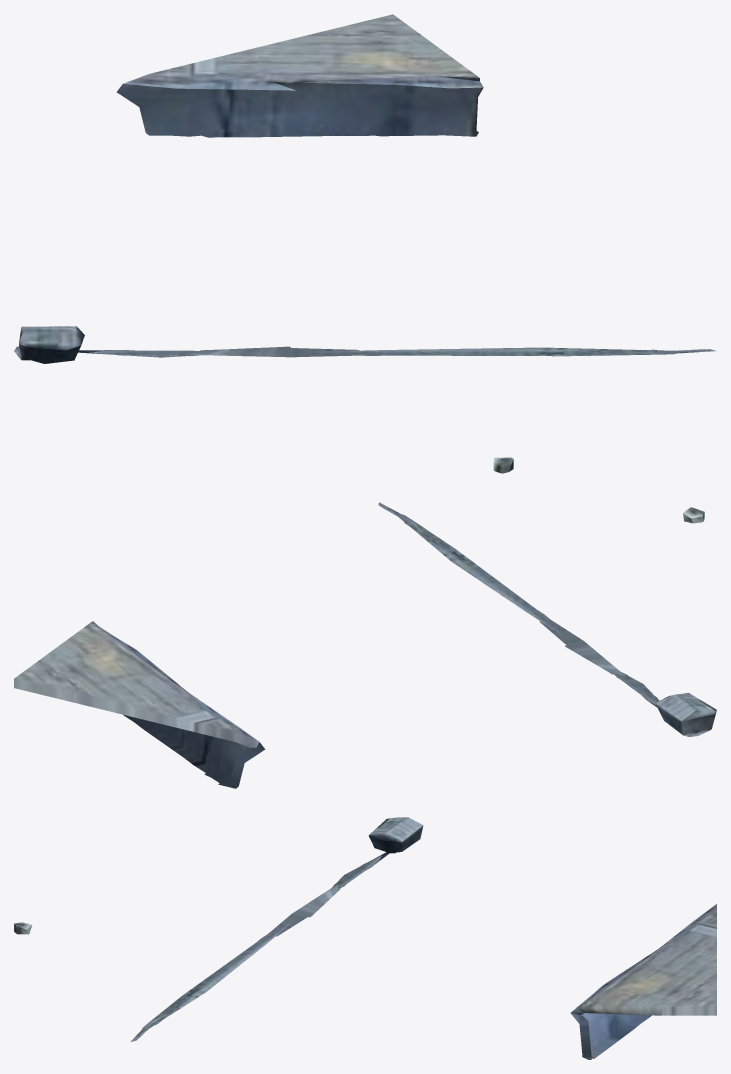
3 views of the same model, one above another, from view 1: azimuth 30°, elevation 25°; view 2: azimuth 150°, elevation 25°; view 3: azimuth 270°, elevation 25° (orthographic). The views are drawn at different scales.
Visible parts, largest first — view 1: 30436272704370625437_0; view 2: 30436272704370625437_0; view 3: 30436272704370625437_0.
Boxes of the visible parts, box(x1,y1,x2,y2) form: 30436272704370625437_0: box(14, 14, 715, 473); 30436272704370625437_0: box(14, 502, 716, 788); 30436272704370625437_0: box(14, 817, 716, 1059).
Size of the model in its own units: 27.3 by 2.78 by 35.48.
1 material, 1 textured.
